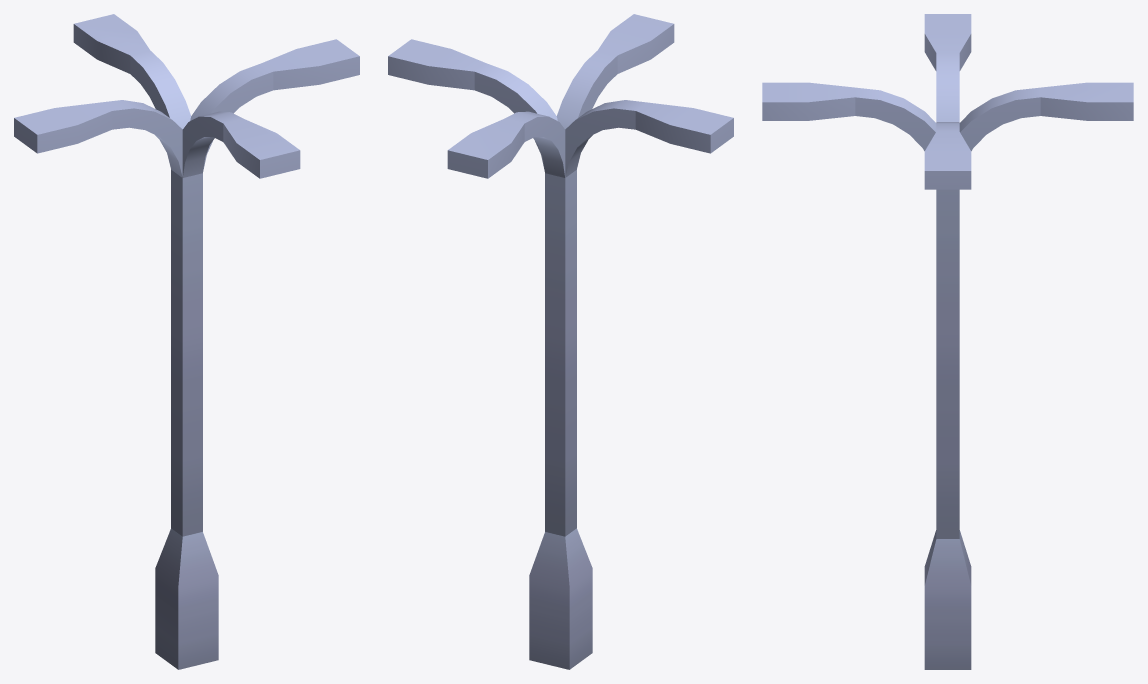
Rendered from light-curved-cross.glb.
3 renders of one model, left to right at view 1: azimuth 30°, elevation 25°; view 2: azimuth 150°, elevation 25°; view 3: azimuth 270°, elevation 25°, orthographic.
Parts seen in each view (by area): view 1: light-curved-cross; view 2: light-curved-cross; view 3: light-curved-cross.
Part boxes in pixels (x1,y1,x2,y2): light-curved-cross: (14,14,359,669); light-curved-cross: (388,14,733,669); light-curved-cross: (762,14,1133,669).
Bounding box in the file's own units: 0.4 × 0.675 × 0.4.
Materials: 1 (1 with a texture image).
